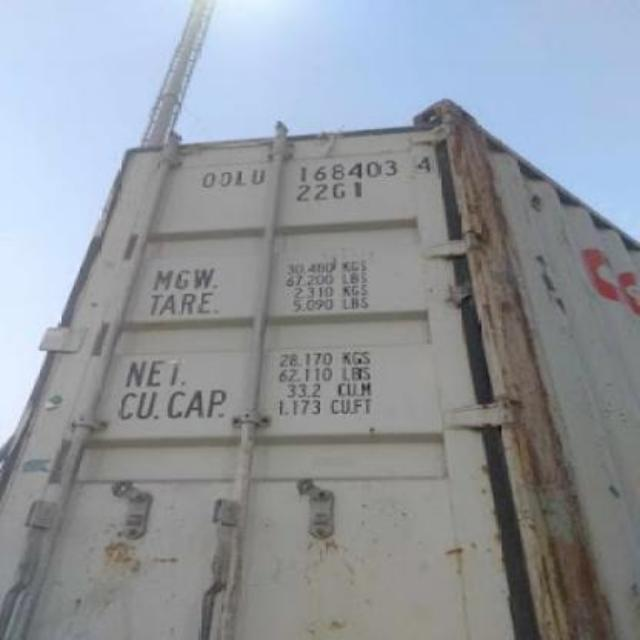0: (364, 156, 382, 180)
1: (296, 156, 312, 184)
3: (378, 154, 396, 178)
4: (414, 148, 432, 178), (348, 158, 364, 178)
6: (312, 159, 328, 183)
8: (328, 157, 346, 183)
L: (234, 166, 246, 188)
O: (217, 166, 233, 190), (202, 167, 215, 190)
U: (248, 167, 268, 190)
